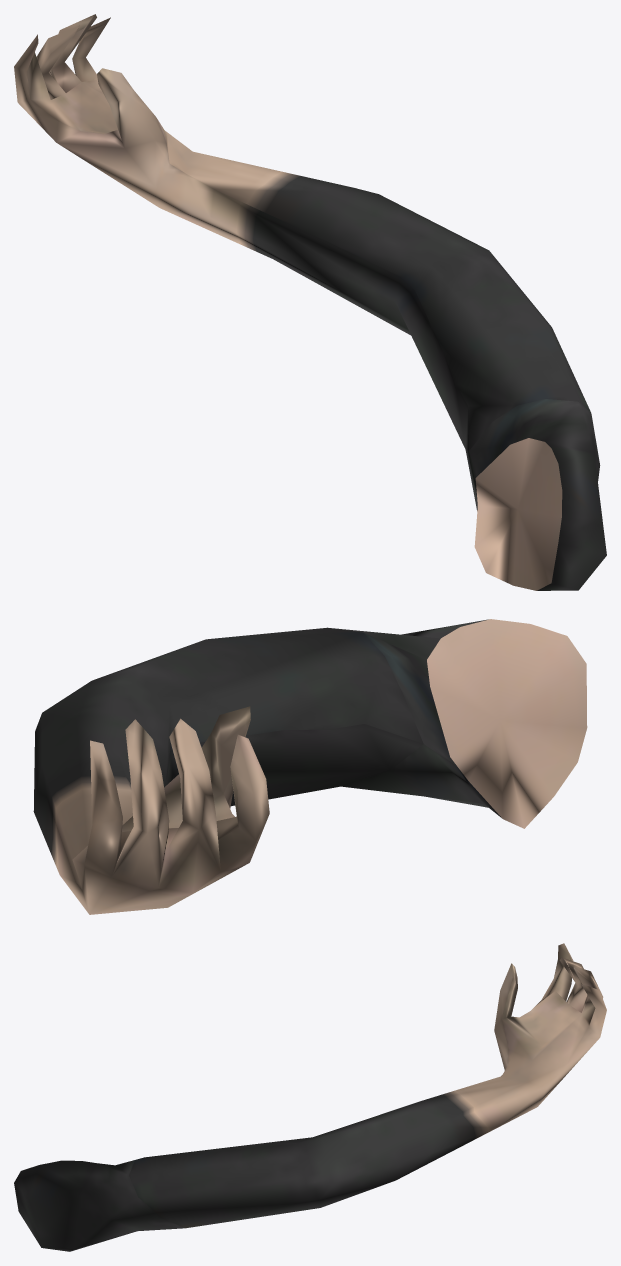
The model's file is dest_nt_nuked_female_01_arm_left_LOD2.obj.
3 views of the same model, one above another, from view 1: azimuth 30°, elevation 25°; view 2: azimuth 150°, elevation 25°; view 3: azimuth 270°, elevation 25° (orthographic). The views are drawn at different scales.
Visible parts, largest first — view 1: mtl_nt_2020_manne_fem01_head1; view 2: mtl_nt_2020_manne_fem01_head1; view 3: mtl_nt_2020_manne_fem01_head1.
Boxes of the visible parts, <box> form: mtl_nt_2020_manne_fem01_head1: <box>14,14,606,590</box>; mtl_nt_2020_manne_fem01_head1: <box>33,619,587,914</box>; mtl_nt_2020_manne_fem01_head1: <box>14,943,606,1251</box>.
Size of the model in its own units: 26.5 by 27.66 by 60.06.
